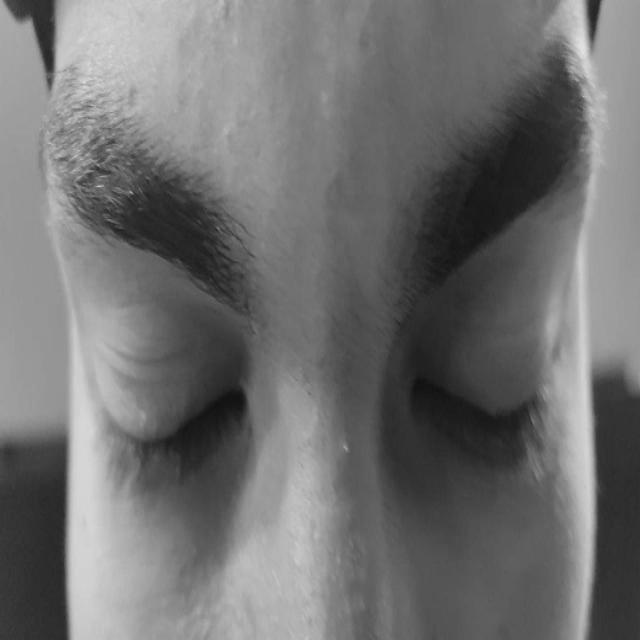real: (80, 197, 578, 532)
